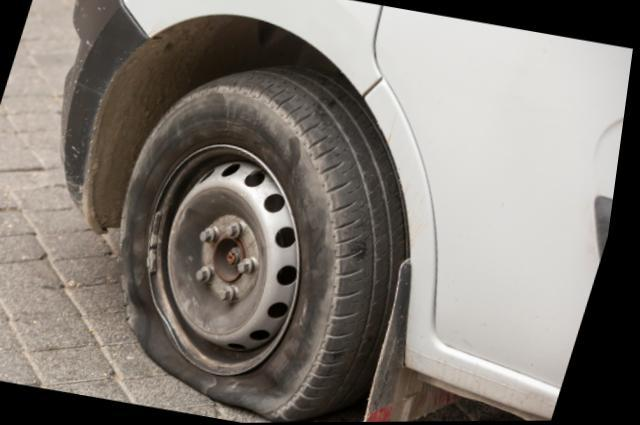tire flat: (129, 63, 415, 423)
